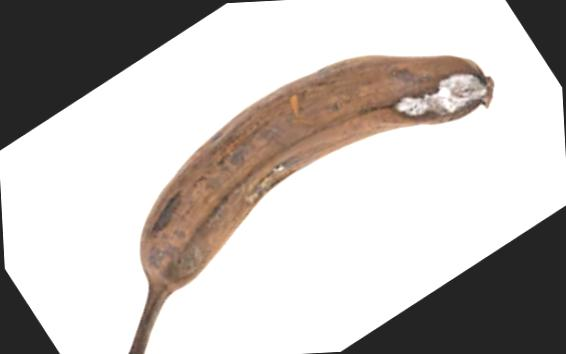Banana Overripe: (57, 4, 509, 354)
